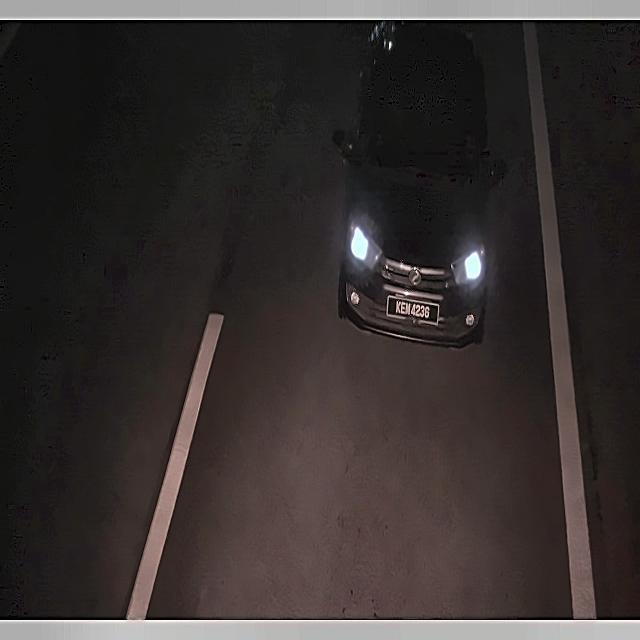car: (387, 288, 442, 329)
